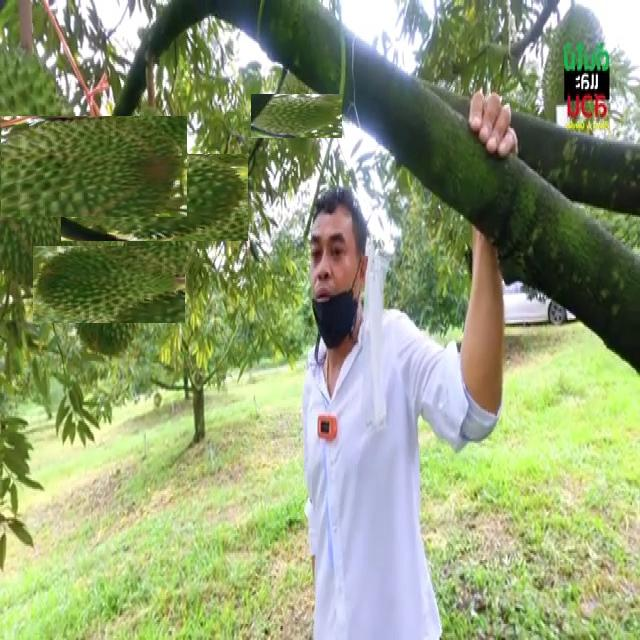durian: (0, 73, 145, 259), (86, 130, 223, 266), (52, 226, 166, 342), (263, 82, 331, 150)
